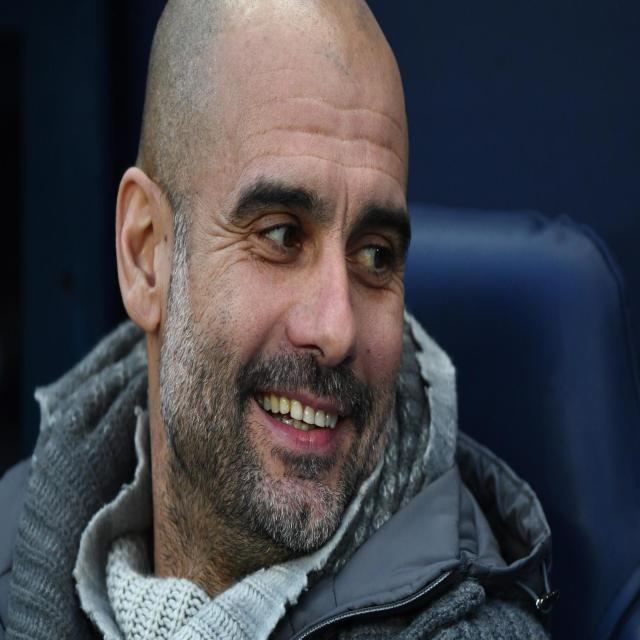human: (49, 3, 556, 640)
